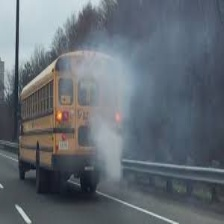smoke: (96, 71, 133, 187)
